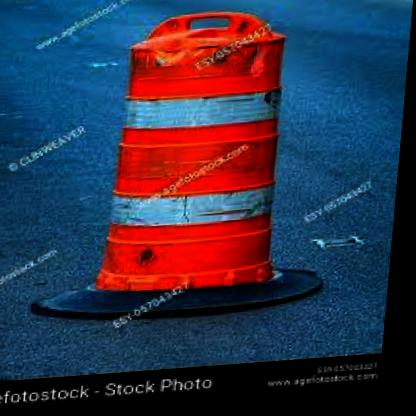obstacle: (94, 7, 310, 301)
